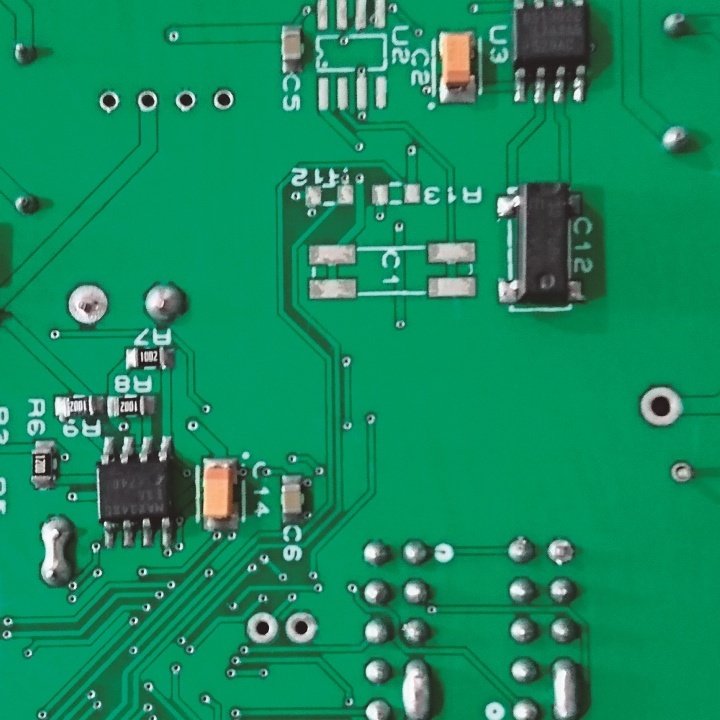F: (635, 383, 686, 432), (65, 281, 110, 329), (281, 608, 321, 651), (544, 535, 582, 568), (244, 609, 274, 649), (663, 460, 699, 487), (134, 87, 161, 116), (95, 87, 121, 117), (171, 86, 197, 116), (209, 87, 233, 114)
P: (36, 512, 76, 589), (399, 655, 439, 720), (549, 655, 582, 720)
